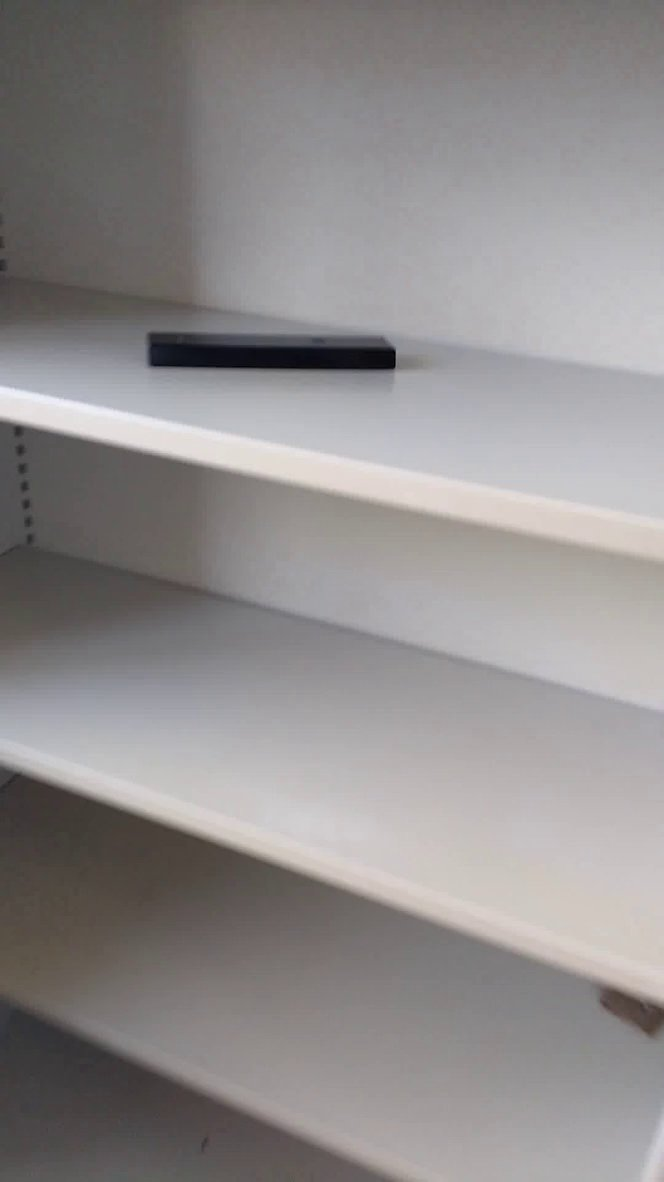remote: (140, 316, 410, 386)
